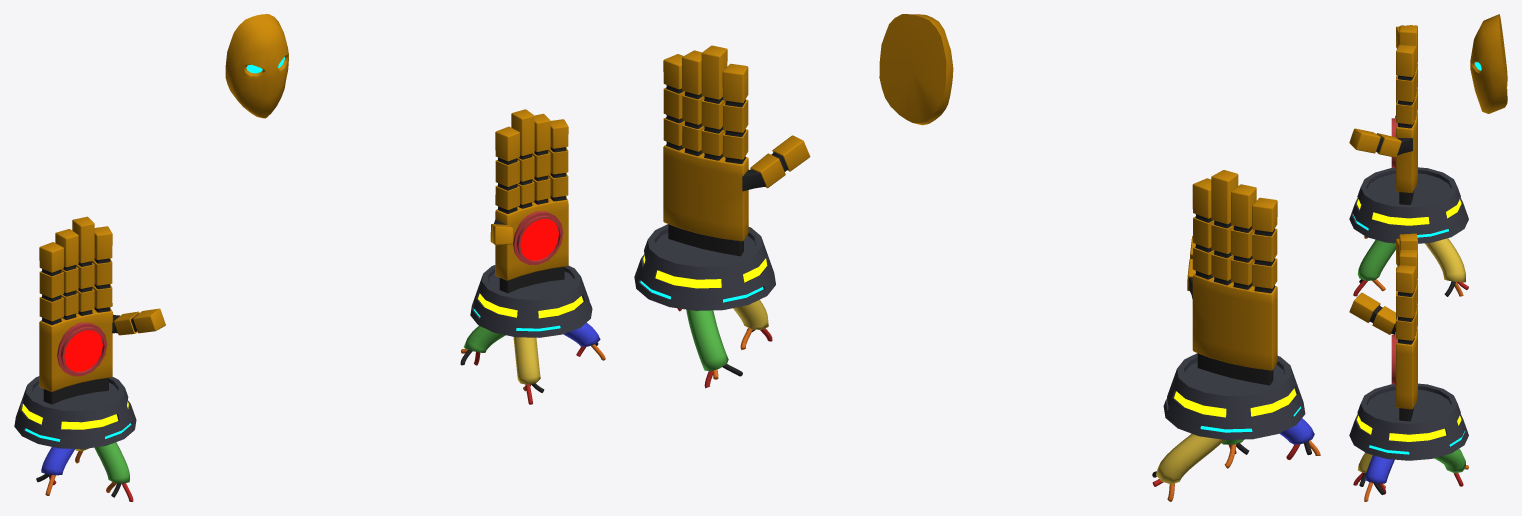
File: Dead_Boss_Parts.fbx
3 renders of one model, left to right at view 1: azimuth 30°, elevation 25°; view 2: azimuth 150°, elevation 25°; view 3: azimuth 270°, elevation 25°, orthographic. The views are drawn at different scales.
Visible parts, largest first — view 1: Boss, Boss.002, Boss.001; view 2: Boss.002, Boss, Boss.001; view 3: Boss, Boss.002, Boss.001.
Part boxes in pixels (bbox=[...]): Boss: bbox=[14, 216, 165, 501]; Boss.002: bbox=[460, 109, 605, 404]; Boss.001: bbox=[225, 14, 288, 118]; Boss.002: bbox=[634, 45, 810, 388]; Boss: bbox=[1152, 170, 1320, 501]; Boss.001: bbox=[879, 14, 953, 125]; Boss: bbox=[1349, 25, 1468, 296]; Boss.002: bbox=[1349, 233, 1468, 501]; Boss.001: bbox=[1470, 14, 1507, 113].
Bounding box in the file's own units: 9.98 × 6.52 × 2.5.
